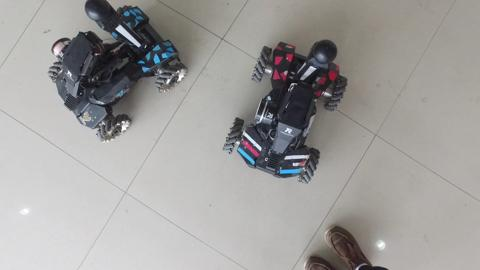chariot: (215, 23, 353, 188), (40, 1, 190, 146)
